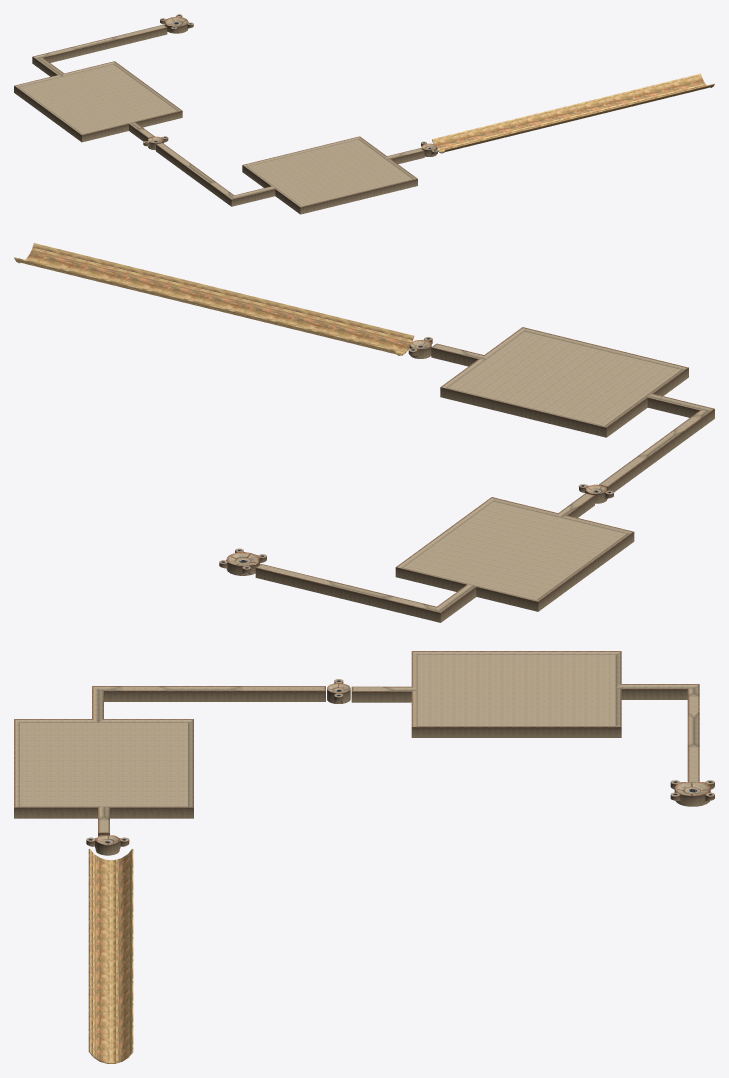
File: TestFloor1.FBX
3 views of the same model, one above another, from view 1: azimuth 30°, elevation 25°; view 2: azimuth 150°, elevation 25°; view 3: azimuth 270°, elevation 25° (orthographic). The views are drawn at different scales.
Visible parts, largest first — view 1: done, done001, A01_Halfpipe_002, A01_Floor_002; view 2: done, done001, A01_Halfpipe_002, A01_Floor_002; view 3: done001, done, A01_Halfpipe_002, A01_Floor_002.
Boxes of the visible parts, x1,y1,x2,y2 form: done: (14,24,182,142); done001: (156,136,424,214); A01_Halfpipe_002: (432,73,714,153); A01_Floor_002: (160,14,193,33); done: (255,493,634,622); done001: (431,327,714,492); A01_Halfpipe_002: (14,243,414,355); A01_Floor_002: (219,548,266,575); done001: (14,686,325,836); done: (351,651,699,782); A01_Halfpipe_002: (88,849,133,1063); A01_Floor_002: (670,780,714,806).
Bounding box in the file's own units: 393 × 7.71 × 292.
10 materials, 10 textured.
